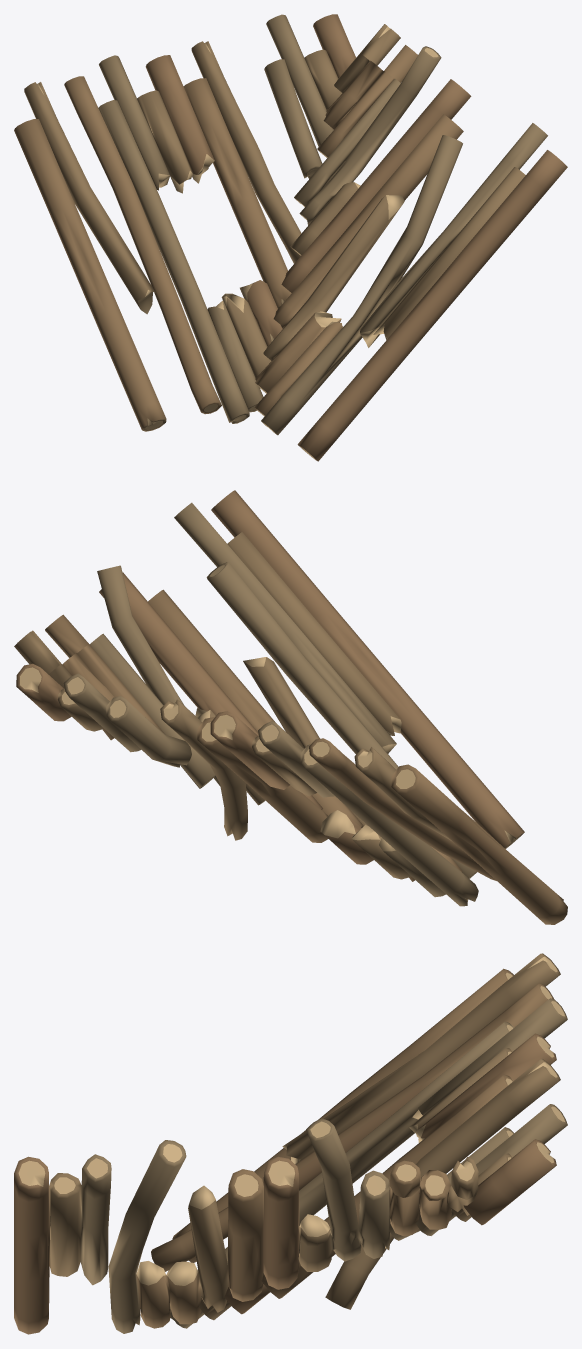
The model's file is rpgpp_av_roof_01_6x3x3_corner_01.gltf.
3 renders of one model, top to bottom at view 1: azimuth 30°, elevation 25°; view 2: azimuth 150°, elevation 25°; view 3: azimuth 270°, elevation 25°, orthographic. The views are drawn at different scales.
Parts seen in each view (by area): view 1: rpgpp_av_roof_01_6x3x3_corner_01; view 2: rpgpp_av_roof_01_6x3x3_corner_01; view 3: rpgpp_av_roof_01_6x3x3_corner_01.
Boxes of the visible parts, <box> form: rpgpp_av_roof_01_6x3x3_corner_01: <box>14,14,567,461</box>; rpgpp_av_roof_01_6x3x3_corner_01: <box>14,490,567,924</box>; rpgpp_av_roof_01_6x3x3_corner_01: <box>14,953,567,1334</box>.
Size of the model in its own units: 0.0665 by 0.0471 by 0.0665.
Materials: 1 (1 with a texture image).
